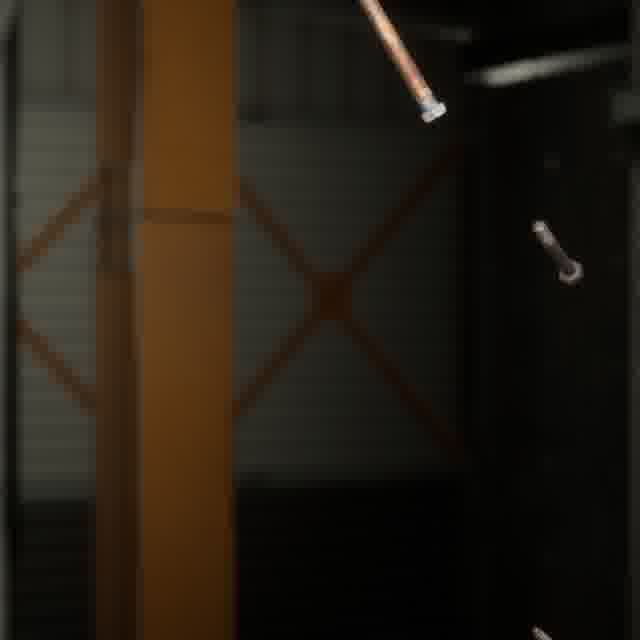bolt: (353, 0, 451, 127), (527, 215, 587, 289)
